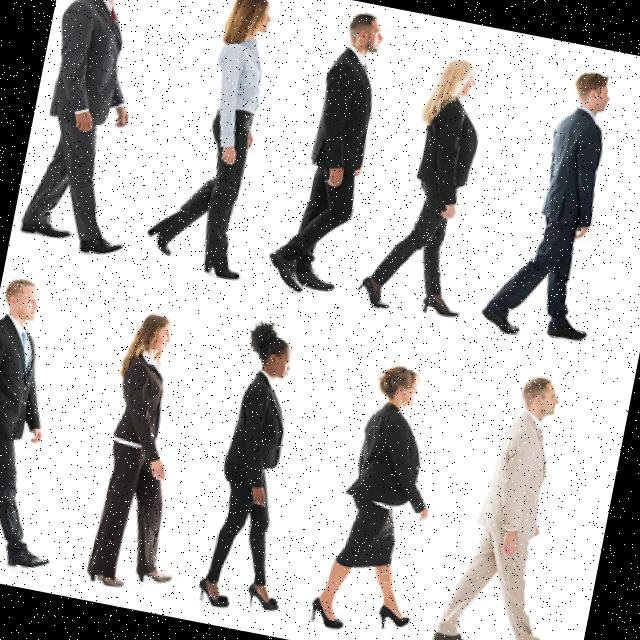Person: (432, 364, 616, 640), (480, 59, 635, 348), (354, 45, 508, 324), (142, 0, 293, 282), (18, 0, 179, 259), (308, 359, 455, 640), (197, 319, 331, 619), (82, 312, 222, 598), (264, 5, 389, 299), (0, 275, 101, 574)
